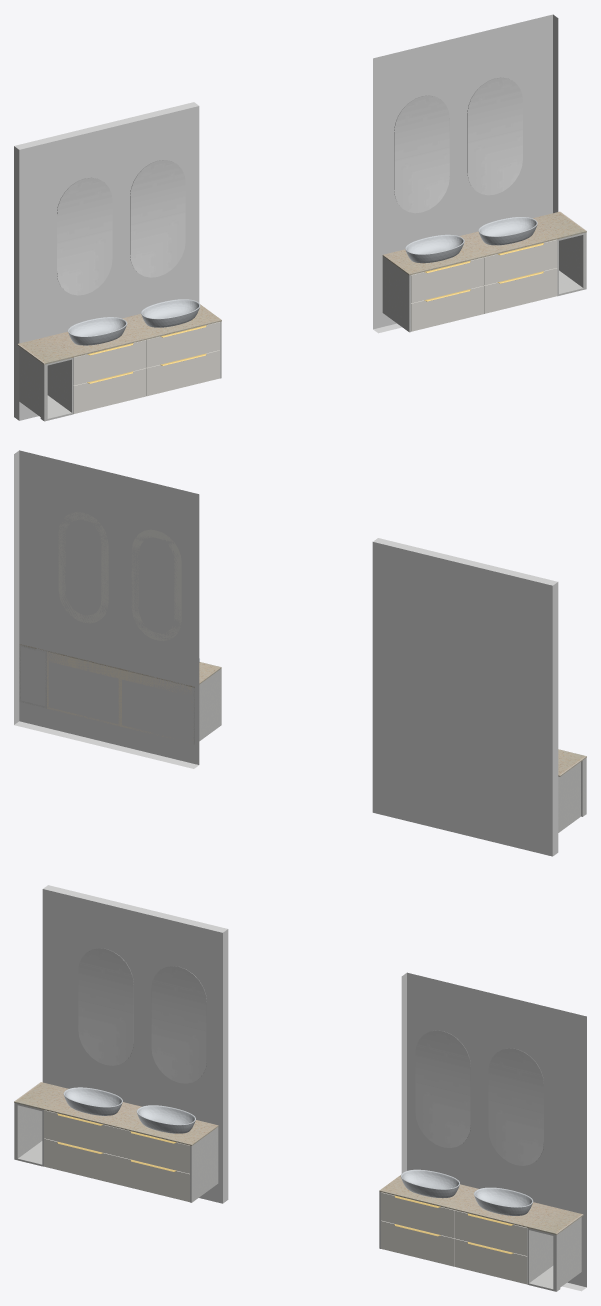
The model's file is FURDO-B-J.glb.
3 renders of one model, top to bottom at view 1: azimuth 30°, elevation 25°; view 2: azimuth 150°, elevation 25°; view 3: azimuth 330°, elevation 25°, orthographic.
Visible parts, largest first — view 1: 3DGeom-1 (×2), 3DGeom-68 (×4), 3DGeom-138 (×4), 3DGeom-65, 3DGeom-131, 3DGeom-33, 3DGeom-103, 3DGeom-104, 3DGeom-59, 3DGeom-34, 3DGeom-60, 3DGeom-127 (+5 smaller); view 2: 3DGeom-1 (×2), 3DGeom-69 (×2), 3DGeom-135, 3DGeom-2, 3DGeom-91, 3DGeom-131; view 3: 3DGeom-1 (×2), 3DGeom-68 (×4), 3DGeom-138 (×4), 3DGeom-65, 3DGeom-131, 3DGeom-103, 3DGeom-127, 3DGeom-128, 3DGeom-104, 3DGeom-59, 3DGeom-33, 3DGeom-34 (+5 smaller).
Boxes of the visible parts, x1,y1,x2,y2 form: 3DGeom-1 (×2): [14, 14, 558, 420]; 3DGeom-68 (×4): [57, 77, 522, 295]; 3DGeom-138 (×4): [68, 217, 537, 345]; 3DGeom-65: [17, 304, 221, 364]; 3DGeom-131: [382, 211, 586, 275]; 3DGeom-33: [73, 368, 146, 413]; 3DGeom-103: [484, 268, 557, 313]; 3DGeom-104: [484, 239, 557, 285]; 3DGeom-59: [146, 350, 219, 396]; 3DGeom-34: [73, 340, 146, 385]; 3DGeom-60: [146, 322, 219, 367]; 3DGeom-127: [411, 286, 483, 331]; 3DGeom-1 (×2): [14, 450, 558, 856]; 3DGeom-69 (×2): [58, 511, 181, 641]; 3DGeom-135: [199, 668, 221, 741]; 3DGeom-2: [558, 762, 580, 832]; 3DGeom-91: [48, 654, 118, 678]; 3DGeom-131: [19, 644, 221, 687]; 3DGeom-1 (×2): [42, 885, 586, 1291]; 3DGeom-68 (×4): [78, 948, 543, 1165]; 3DGeom-138 (×4): [63, 1087, 533, 1215]; 3DGeom-65: [14, 1082, 218, 1145]; 3DGeom-131: [379, 1175, 583, 1234]; 3DGeom-103: [454, 1238, 527, 1284]; 3DGeom-127: [381, 1220, 454, 1266]; 3DGeom-128: [381, 1192, 454, 1238]; 3DGeom-104: [454, 1210, 527, 1255]; 3DGeom-59: [117, 1156, 189, 1202]; 3DGeom-33: [44, 1138, 116, 1184]; 3DGeom-34: [44, 1110, 116, 1155].
Bounding box in the file's own units: 5.87 × 2.8 × 0.6207.
Materials: 10 (8 with a texture image).
